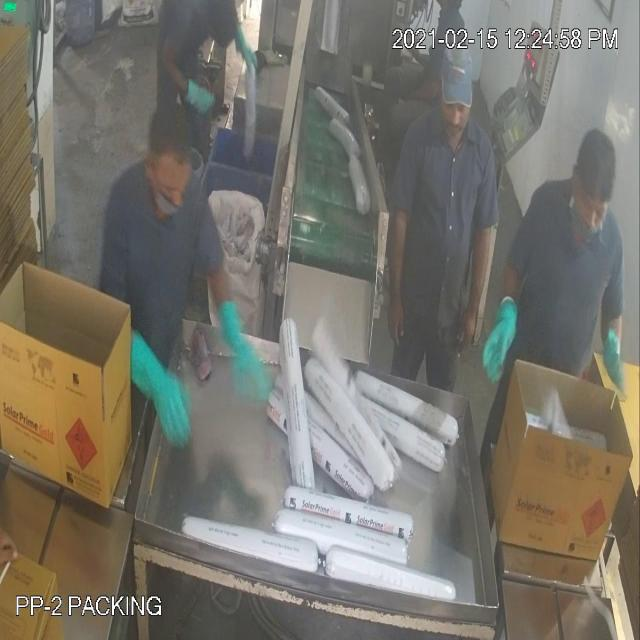gloves: (123, 316, 196, 462), (218, 285, 272, 416), (474, 286, 532, 399), (601, 324, 633, 406)
no-gloves: (454, 202, 502, 356), (384, 187, 416, 352)
